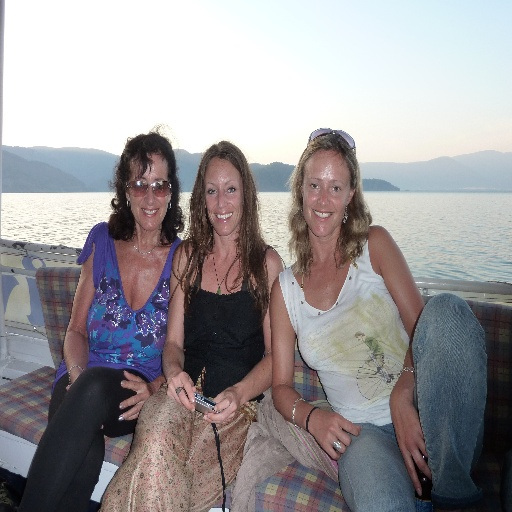hand: (389, 389, 434, 498), (307, 409, 359, 465), (117, 369, 155, 422), (203, 385, 242, 425), (166, 370, 197, 413), (64, 375, 81, 391)
